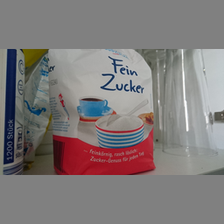tomato_sauce: (47, 50, 155, 174)
